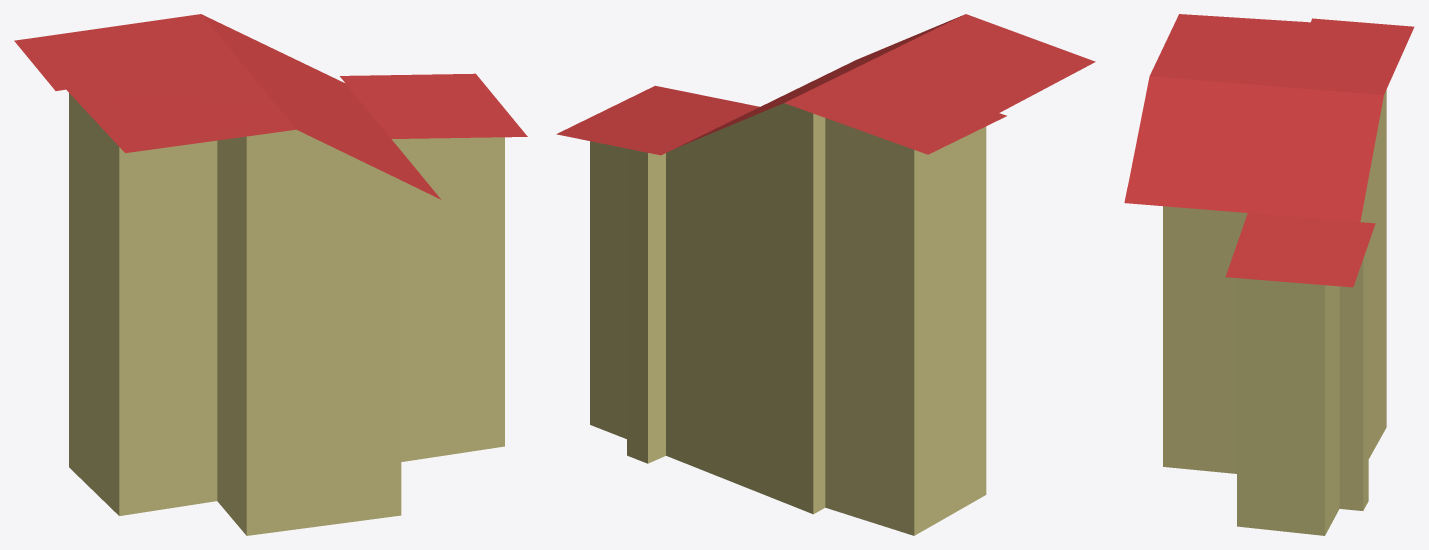
3 views of the same model, side by side, from view 1: azimuth 30°, elevation 25°; view 2: azimuth 150°, elevation 25°; view 3: azimuth 270°, elevation 25° (orthographic). The views are drawn at different scales.
Bounding box in the file's own units: 12.8 × 8.56 × 11.26.
